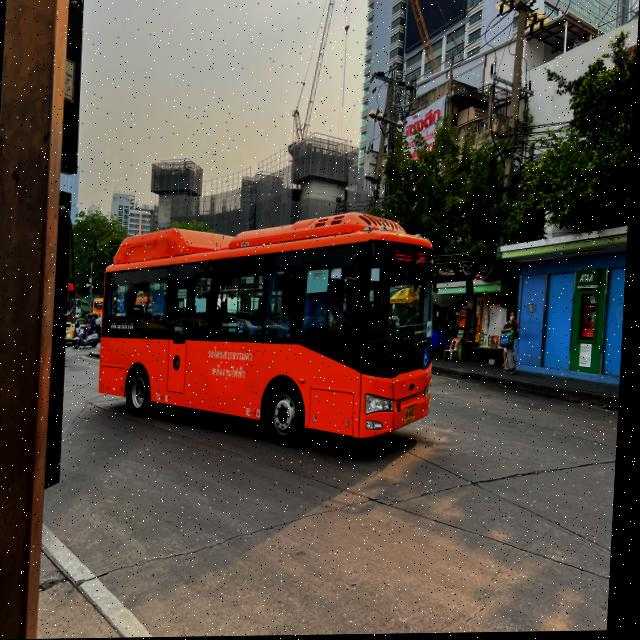TSB-Bus: (102, 215, 440, 449)
